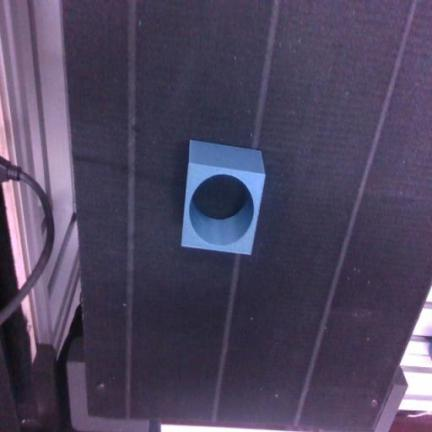hole: (182, 141, 264, 254)
